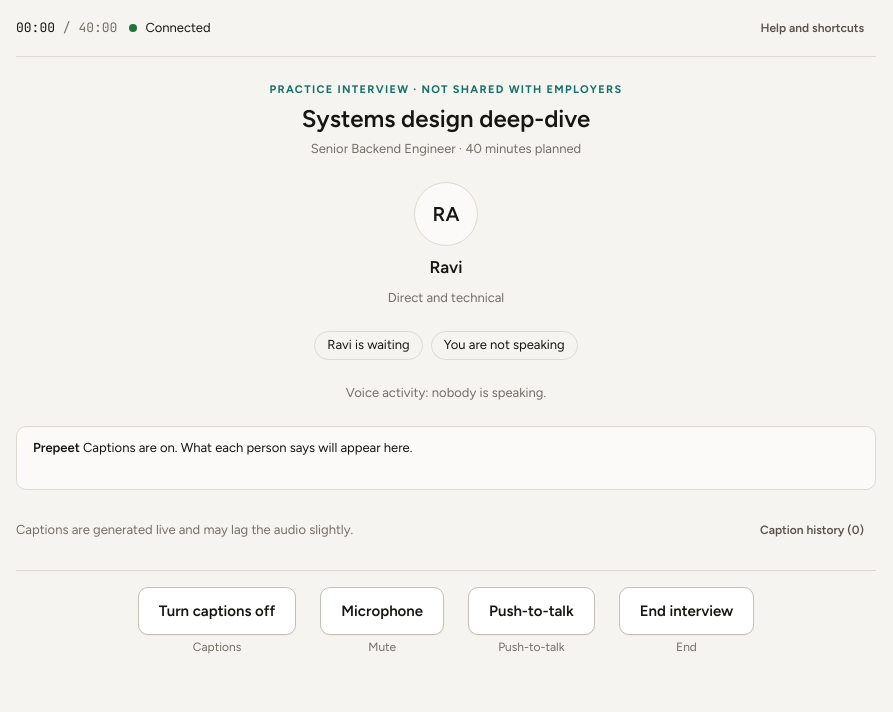
it: push-to-talk, by pointer and by keyboard › holding Space opens the microphone; releasing closes it; M and C keep their jobs
Expected: the text "Ravi" is shown, [430,254,462,280]
Click the button with aria-label "switch to push-to-talk" at (531, 611), box [468,587,595,635]
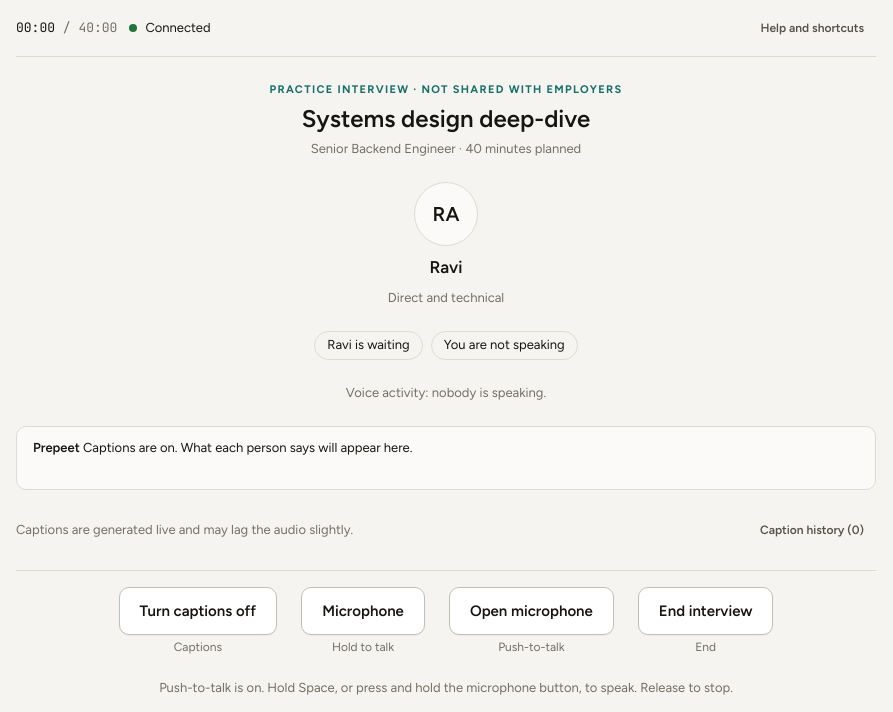
Type keys "{ >}"
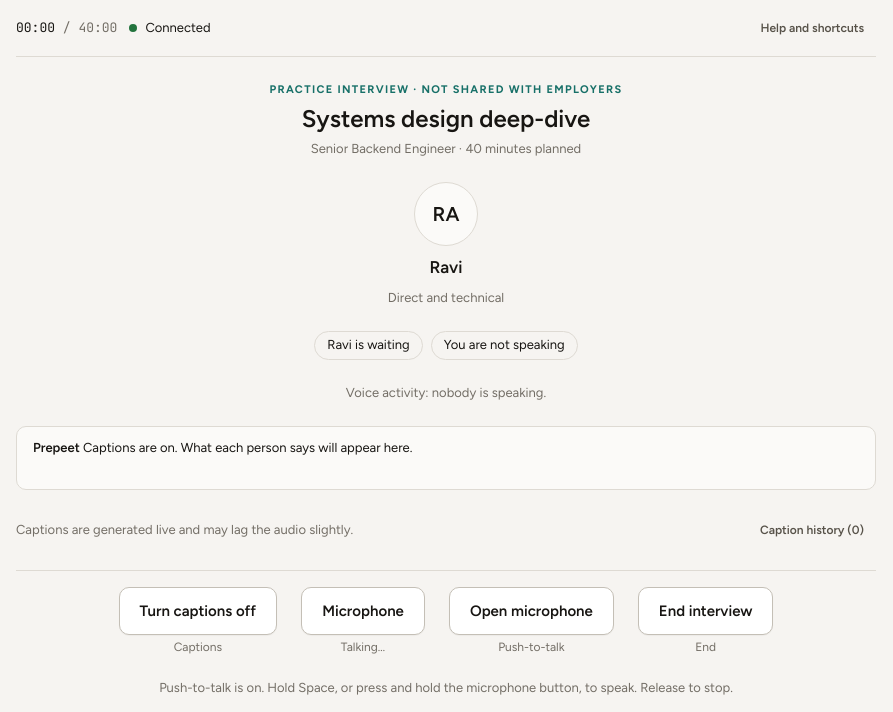
Type keys "{/ }"
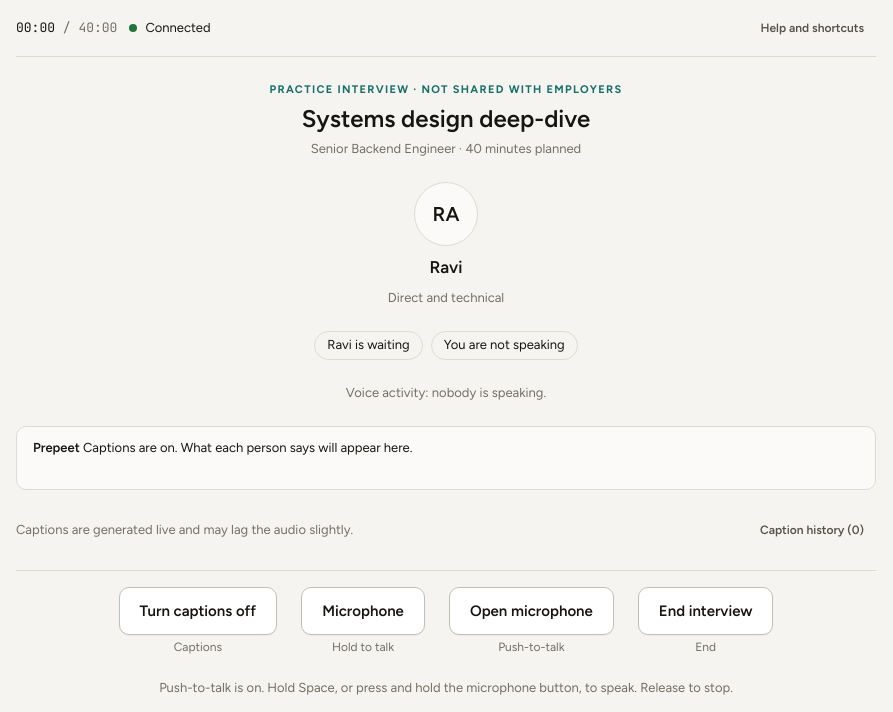
Expected: the element with test id "caption" is shown, [16,426,876,490]
Type keys "c"
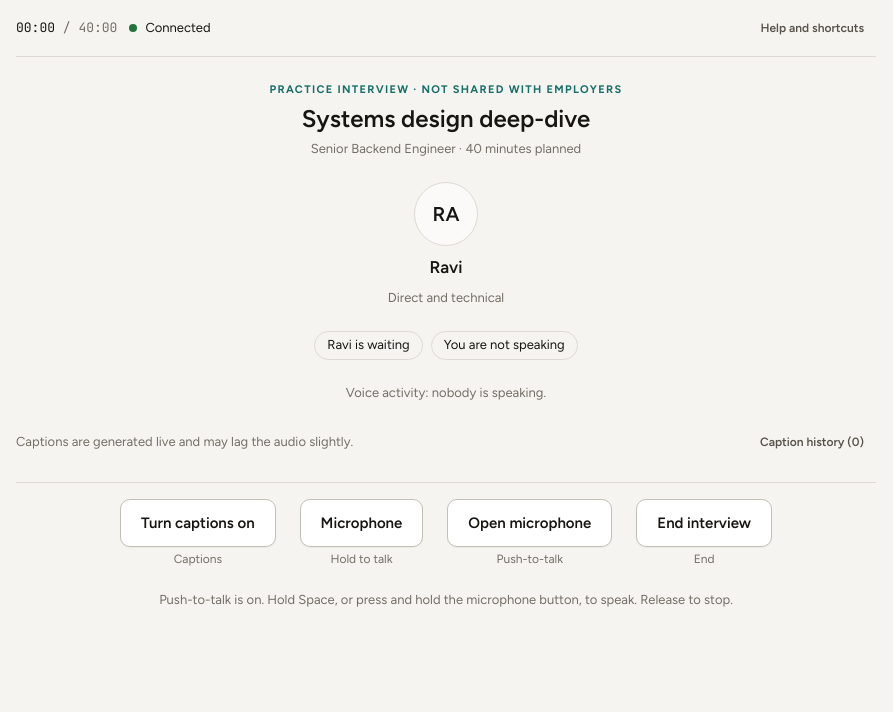
Expected: the element with test id "caption" is gone
